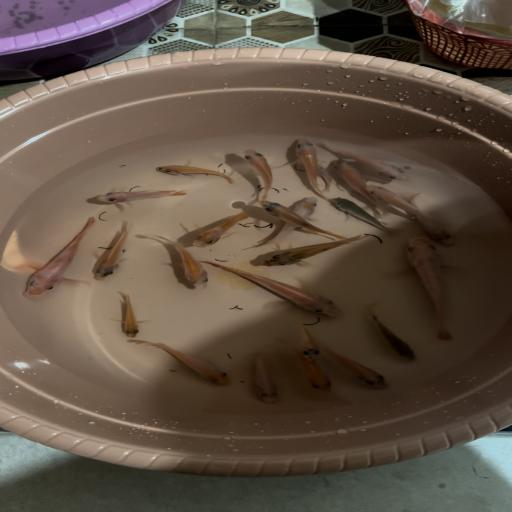nila: (213, 262, 350, 324), (15, 216, 104, 300), (398, 235, 462, 341), (126, 335, 231, 390), (254, 235, 373, 272), (316, 138, 413, 181), (322, 342, 396, 396), (363, 184, 459, 225), (152, 232, 215, 294), (250, 196, 322, 250), (85, 224, 150, 283), (255, 198, 346, 240), (278, 338, 336, 399), (364, 304, 421, 366), (404, 190, 458, 248), (325, 158, 385, 207), (326, 196, 398, 236), (184, 213, 264, 249), (288, 136, 332, 200), (87, 185, 195, 211), (234, 144, 279, 199), (108, 290, 150, 342), (248, 352, 286, 409), (151, 163, 236, 186), (288, 324, 328, 361), (290, 163, 334, 190)
